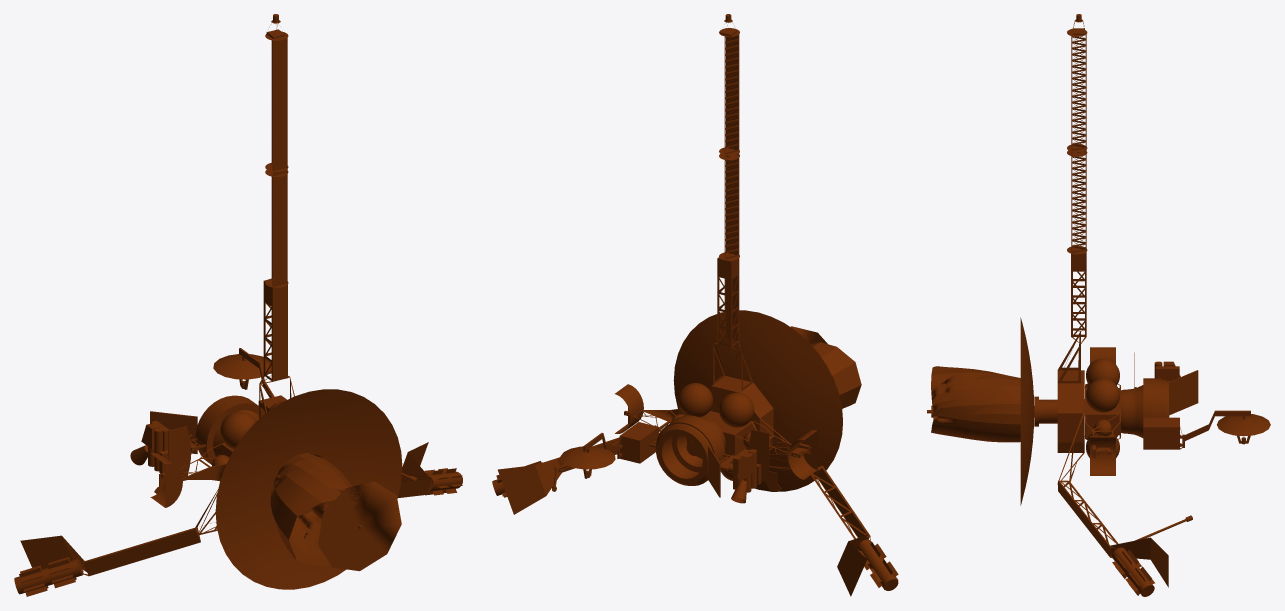
Rendered from Galileo_autosave_1.fbx.
The picture shows the model from 3 angles, left to right: view 1: azimuth 30°, elevation 25°; view 2: azimuth 150°, elevation 25°; view 3: azimuth 270°, elevation 25°; orthographic projection. The views are drawn at different scales.
Visible parts, largest first — view 1: IndexedF42, IndexedF46, IndexedF55, IndexedF37, IndexedF50, IndexedFa6, IndexedF54, IndexedF10, IndexedF35, IndexedF52, IndexedFa4, IndexedFa7 (+5 smaller); view 2: IndexedF42, IndexedF50, IndexedF37, IndexedF36, IndexedF16, IndexedF51, IndexedF55, IndexedFac, IndexedFa4, IndexedF54, IndexedF52, IndexedF10 (+11 smaller); view 3: IndexedF55, IndexedF36, IndexedFac, IndexedF50, IndexedF42, IndexedF51, IndexedF54, IndexedF16, IndexedF52, IndexedFa4, IndexedF22, IndexedF25 (+7 smaller).
Boxes of the visible parts, x1=… form: IndexedF42: x1=215, y1=389, x2=402, y2=589; IndexedF46: x1=318, y1=481, x2=401, y2=571; IndexedF55: x1=270, y1=452, x2=352, y2=567; IndexedF37: x1=265, y1=31, x2=288, y2=287; IndexedF50: x1=195, y1=395, x2=265, y2=464; IndexedFa6: x1=83, y1=529, x2=200, y2=576; IndexedF54: x1=141, y1=411, x2=205, y2=473; IndexedF10: x1=20, y1=535, x2=87, y2=572; IndexedF35: x1=272, y1=304, x2=287, y2=381; IndexedF52: x1=213, y1=354, x2=271, y2=389; IndexedFa4: x1=263, y1=280, x2=287, y2=381; IndexedFa7: x1=14, y1=558, x2=83, y2=594; IndexedF42: x1=673, y1=310, x2=842, y2=491; IndexedF50: x1=655, y1=415, x2=725, y2=485; IndexedF37: x1=719, y1=28, x2=739, y2=260; IndexedF36: x1=724, y1=34, x2=739, y2=259; IndexedF16: x1=498, y1=458, x2=561, y2=514; IndexedF51: x1=583, y1=422, x2=658, y2=463; IndexedF55: x1=811, y1=342, x2=861, y2=408; IndexedFac: x1=708, y1=376, x2=773, y2=449; IndexedFa4: x1=717, y1=257, x2=739, y2=347; IndexedF54: x1=708, y1=445, x2=761, y2=497; IndexedF52: x1=560, y1=446, x2=615, y2=478; IndexedF10: x1=837, y1=534, x2=868, y2=596; IndexedF55: x1=931, y1=366, x2=1020, y2=442; IndexedF36: x1=1071, y1=34, x2=1086, y2=253; IndexedFac: x1=1057, y1=370, x2=1084, y2=452; IndexedF50: x1=1120, y1=378, x2=1168, y2=437; IndexedF42: x1=1020, y1=317, x2=1034, y2=505; IndexedF51: x1=1143, y1=410, x2=1250, y2=449; IndexedF54: x1=1155, y1=361, x2=1198, y2=415; IndexedF16: x1=1109, y1=537, x2=1168, y2=587; IndexedF52: x1=1217, y1=414, x2=1270, y2=444; IndexedFa4: x1=1071, y1=247, x2=1086, y2=336; IndexedF22: x1=1086, y1=378, x2=1119, y2=412; IndexedF25: x1=1090, y1=436, x2=1115, y2=475.
Size of the model in its own units: 19402 by 23213 by 14671.
